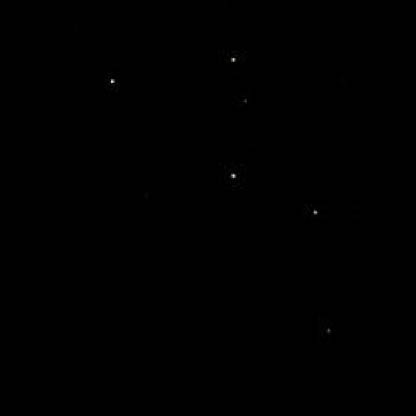Cassiopeia: (220, 49, 259, 105), (222, 155, 250, 194), (304, 193, 324, 228), (101, 69, 125, 97), (323, 313, 340, 343)
